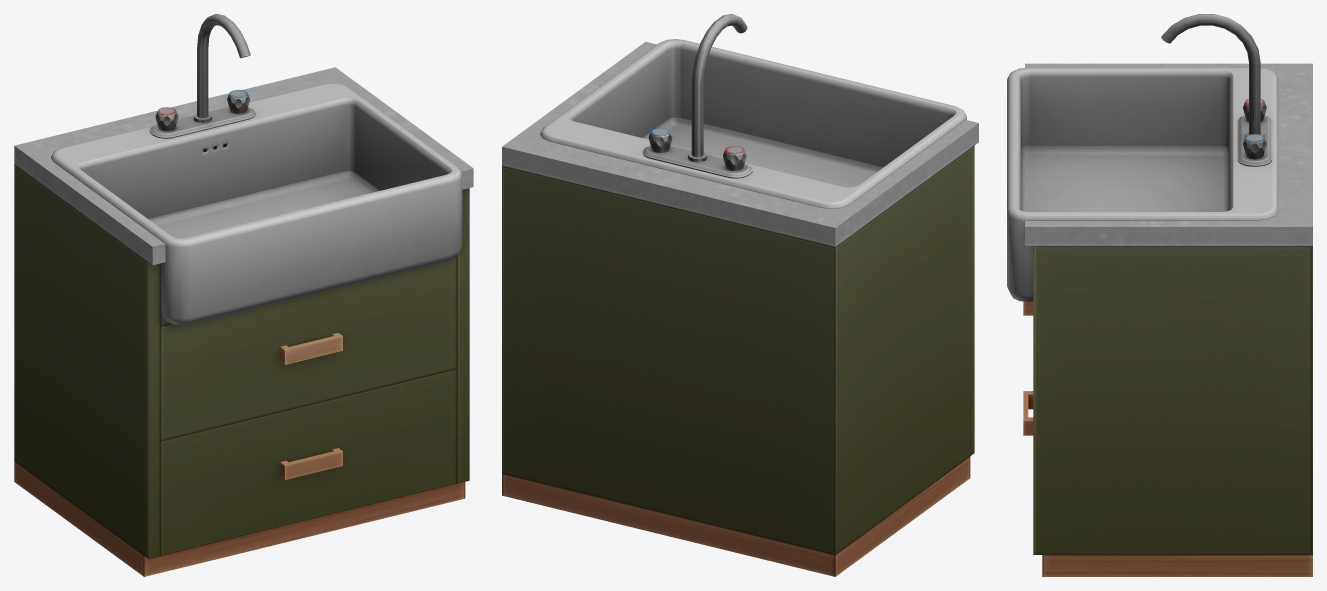
Rendered from mueblePica.fbx.
The picture shows the model from 3 angles, left to right: view 1: azimuth 30°, elevation 25°; view 2: azimuth 150°, elevation 25°; view 3: azimuth 270°, elevation 25°; orthographic projection. The views are drawn at different scales.
Parts seen in each view (by area): view 1: s4studio_mesh_0; view 2: s4studio_mesh_0; view 3: s4studio_mesh_0.
Boxes of the visible parts, x1,y1,x2,y2 form: s4studio_mesh_0: (14, 14, 473, 576); s4studio_mesh_0: (502, 14, 978, 576); s4studio_mesh_0: (1007, 14, 1312, 576).
Bounding box in the file's own units: 100 × 137 × 79.21.
Materials: 2 (2 with a texture image).
